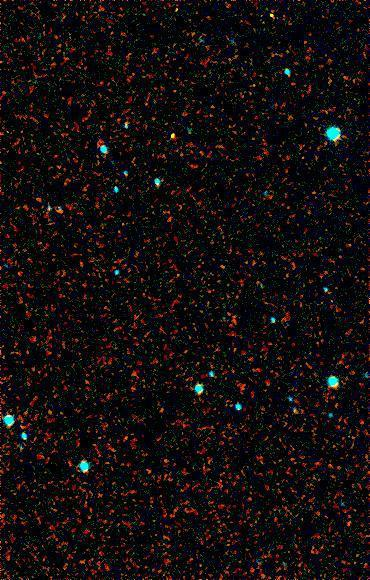star: (258, 0, 288, 28)
